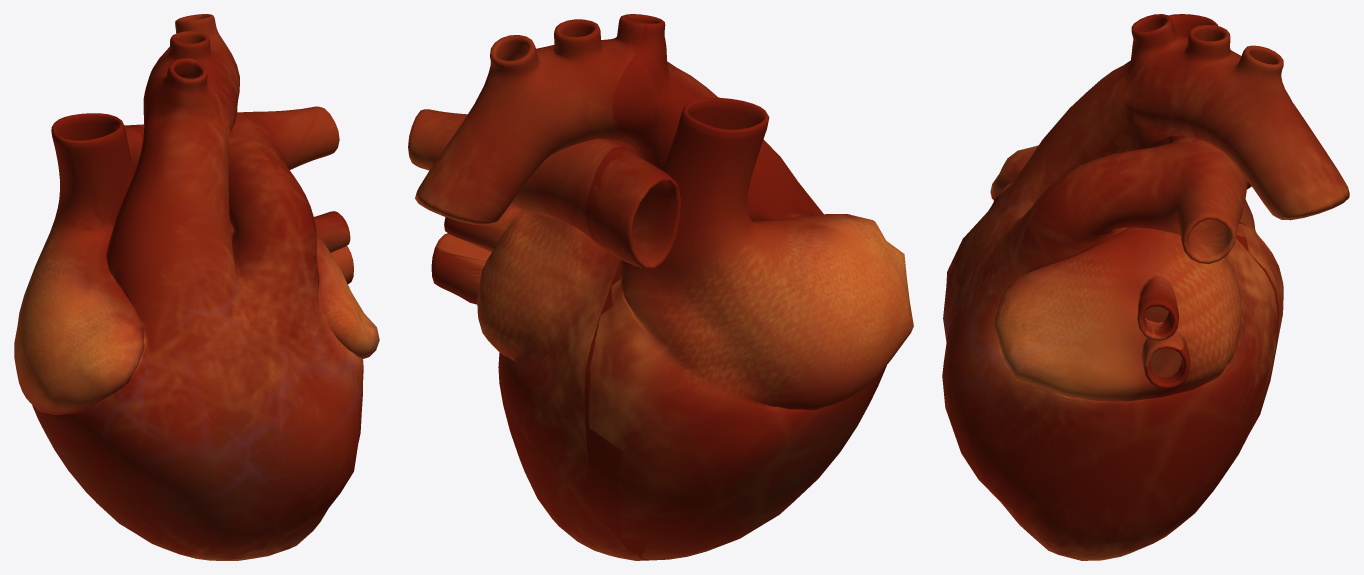
The model's file is coeur.FBX.
The picture shows the model from 3 angles, left to right: view 1: azimuth 30°, elevation 25°; view 2: azimuth 150°, elevation 25°; view 3: azimuth 270°, elevation 25°; orthographic projection. The views are drawn at different scales.
Visible parts, largest first — view 1: coeur; view 2: coeur; view 3: coeur.
Boxes of the visible parts, x1,y1,x2,y2 form: coeur: (14, 14, 379, 560); coeur: (408, 14, 913, 560); coeur: (942, 14, 1349, 560).
Bounding box in the file's own units: 8.83 × 11.58 × 8.18.
